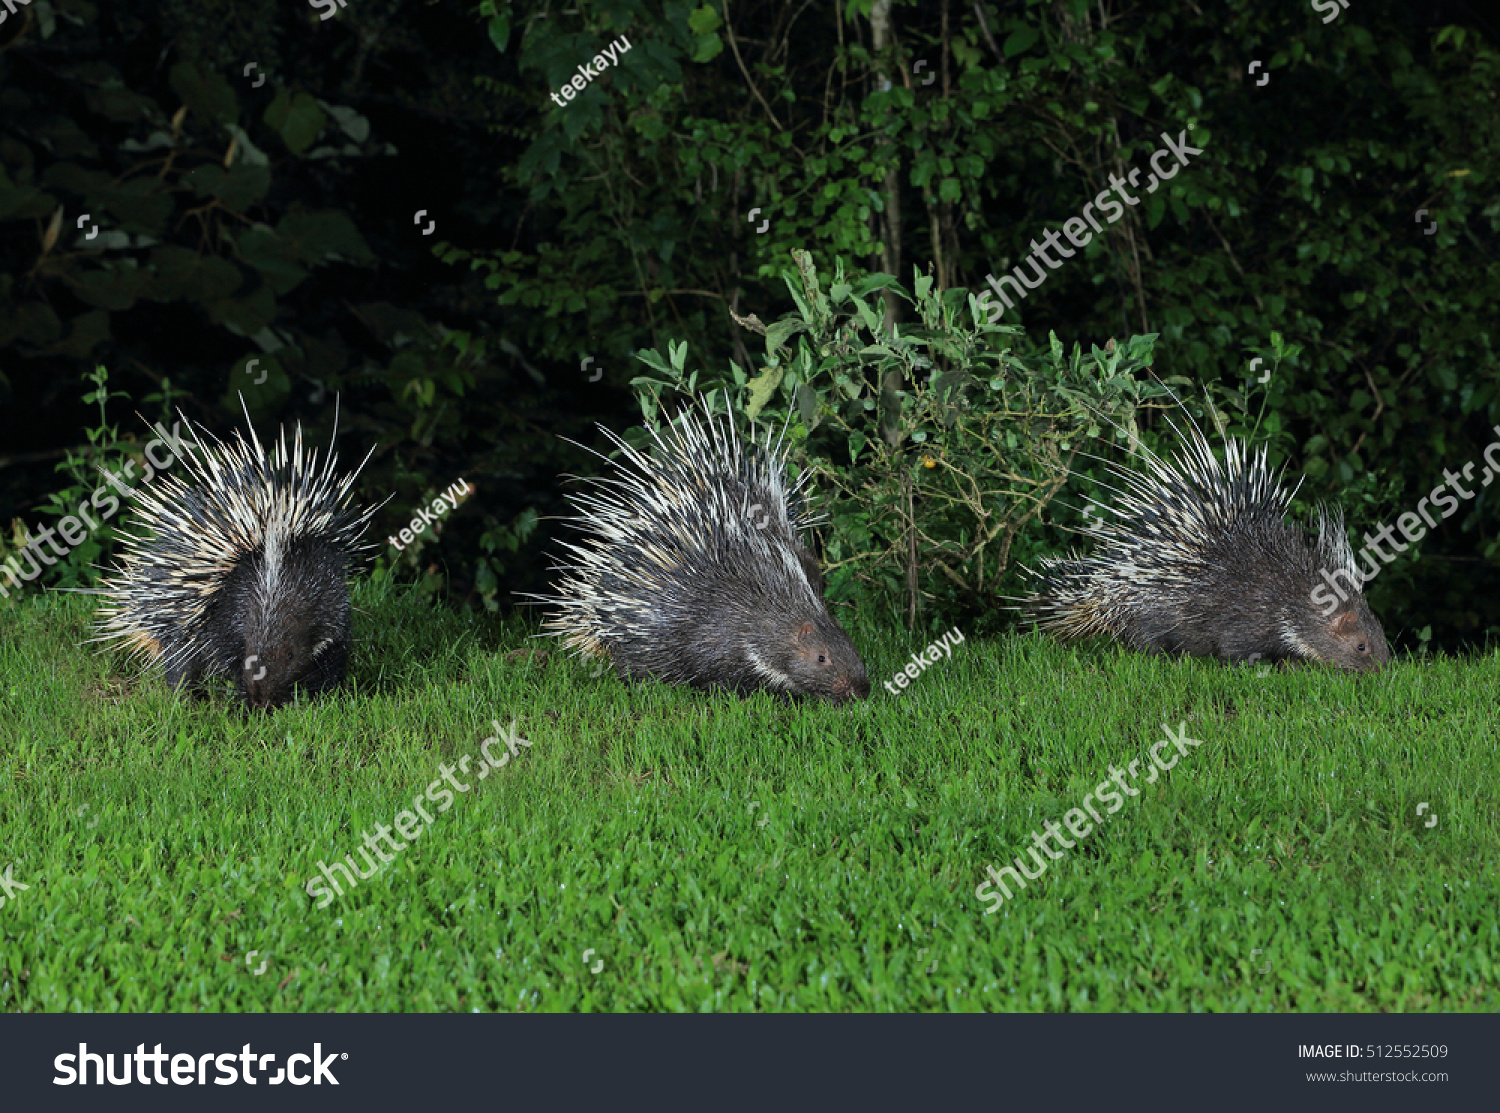porcupine: (510, 399, 917, 727), (1004, 403, 1425, 701), (72, 381, 401, 735)
